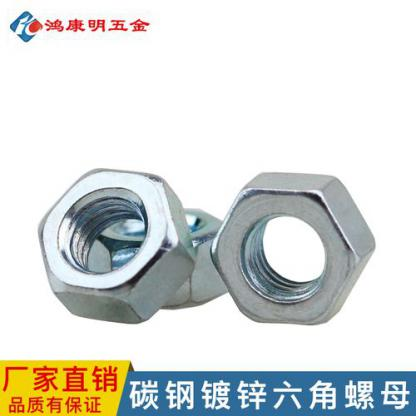FOD: (207, 169, 378, 324), (39, 165, 192, 328), (76, 203, 236, 308)
